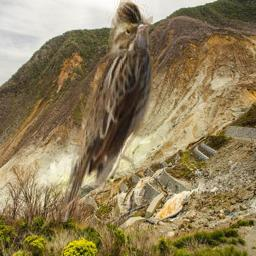Sparrow: (59, 0, 153, 222)
